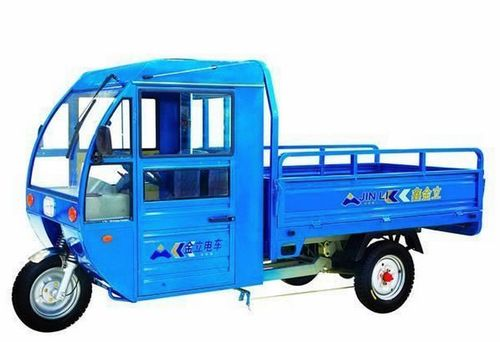empty: (6, 54, 489, 333)
